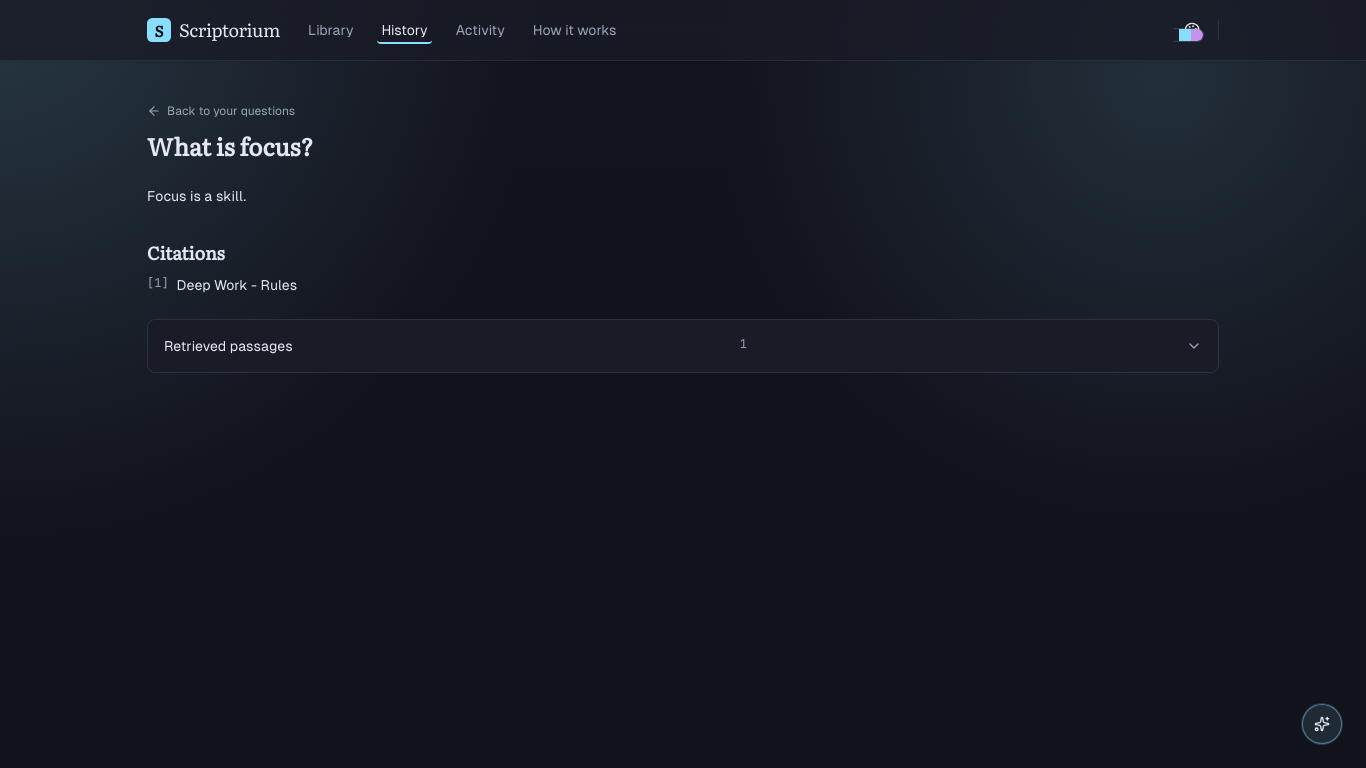
Test case: /history/:queryId renders that past query, with citations and retrieved passages
Expected: the heading "What is focus?" is shown, [147,131,313,161]
Expected: the text "Focus is a skill." is shown, [147,188,246,204]
Click the button "Retrieved passages 1". click: (228, 346)
box: [164,320,1202,372]
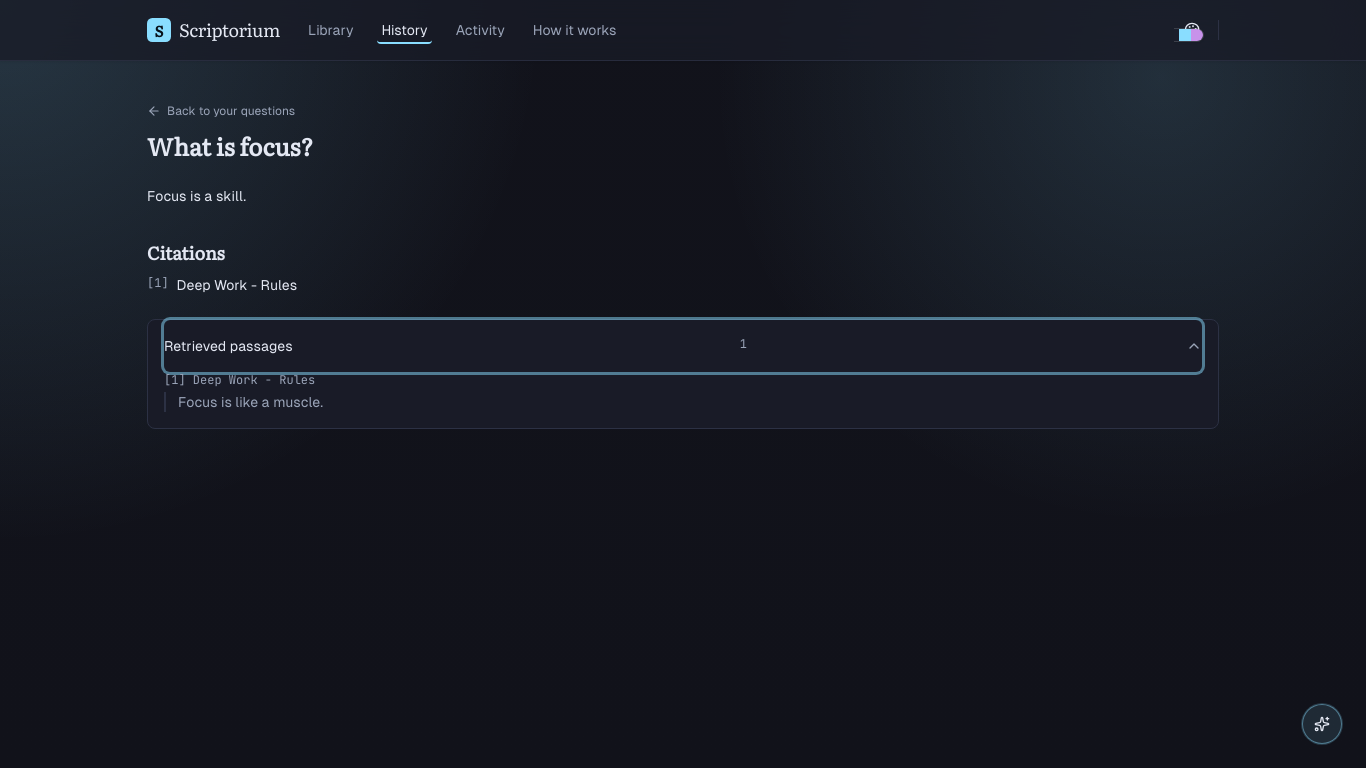
Now the text "Focus is like a muscle." is shown, box [164,392,1202,412]
